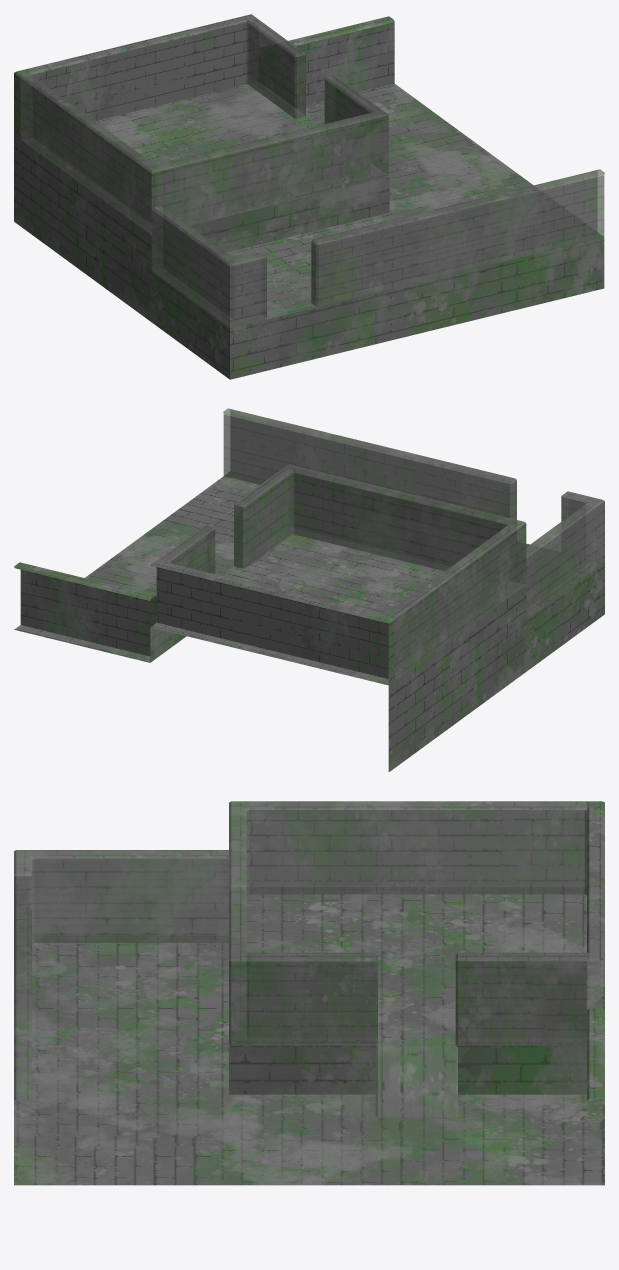
File: lvl_1-cnk_0.obj
The picture shows the model from 3 angles, top to bottom: view 1: azimuth 30°, elevation 25°; view 2: azimuth 150°, elevation 25°; view 3: azimuth 270°, elevation 25°; orthographic projection. The views are drawn at different scales.
Parts seen in each view (by area): view 1: Cube.005, Cube.006, Cube.009, Cube.007, Cube.008; view 2: Cube.006, Cube.005, Cube.009, Cube.008, Cube.007; view 3: Cube.005, Cube.006, Cube.007, Cube.009, Cube.008.
Part boxes in pixels (box(x1,y1,x2,y2)): Cube.005: box(14, 83, 604, 379); Cube.006: box(14, 14, 388, 234); Cube.009: box(311, 169, 604, 306); Cube.007: box(151, 205, 266, 328); Cube.008: box(288, 16, 394, 105); Cube.006: box(150, 464, 526, 685); Cube.005: box(14, 472, 604, 771); Cube.009: box(223, 408, 516, 519); Cube.008: box(14, 562, 156, 656); Cube.007: box(526, 491, 604, 619); Cube.005: box(14, 887, 604, 1185); Cube.006: box(229, 801, 604, 1045); Cube.007: box(14, 850, 228, 943); Cube.009: box(14, 908, 31, 1100); Cube.008: box(587, 1008, 604, 1100).
Bounding box in the file's own units: 99.4 × 38 × 99.
Materials: 3 (3 with a texture image).
